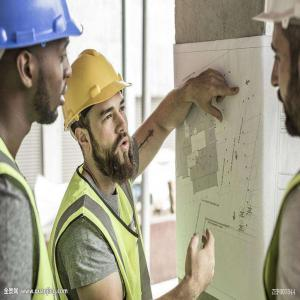blue: (2, 2, 79, 126)
yellow: (61, 49, 137, 186)
